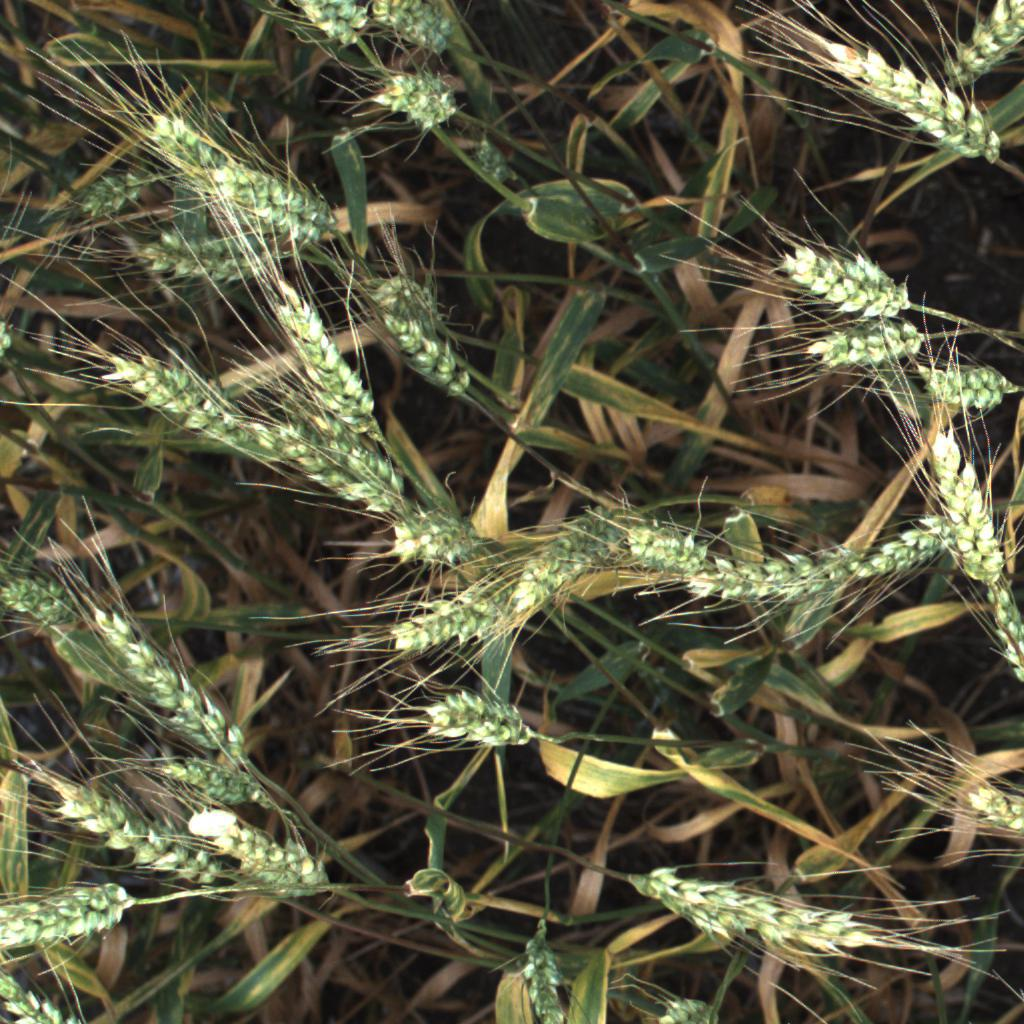0-0: (72, 591, 264, 778), (815, 23, 1022, 167), (633, 852, 898, 963), (29, 762, 241, 891), (261, 271, 400, 463), (488, 493, 660, 629), (93, 345, 269, 460), (913, 421, 1019, 601), (185, 148, 354, 260), (182, 801, 350, 908), (764, 232, 931, 338), (397, 673, 578, 756), (380, 568, 535, 658), (680, 542, 853, 616), (367, 293, 480, 403), (134, 219, 291, 295), (0, 872, 138, 953), (285, 435, 401, 531), (798, 309, 938, 382), (849, 505, 969, 588), (380, 499, 486, 588), (902, 346, 1015, 426), (131, 751, 271, 813), (363, 65, 475, 140), (511, 904, 579, 1024), (606, 510, 719, 580), (939, 0, 1024, 89), (0, 556, 91, 637), (353, 0, 482, 54), (967, 578, 1024, 692), (137, 97, 225, 167), (949, 778, 1024, 857), (67, 161, 153, 227), (0, 966, 96, 1024), (279, 0, 373, 50), (631, 986, 740, 1024)
